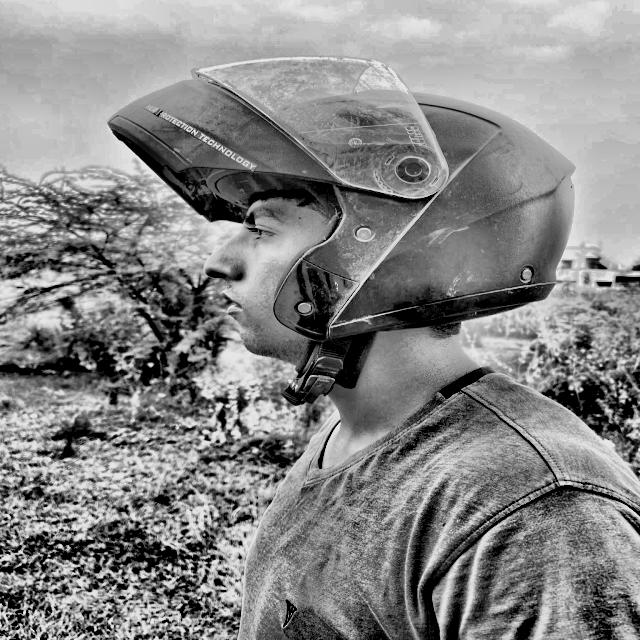Helmet: (96, 60, 590, 406)
